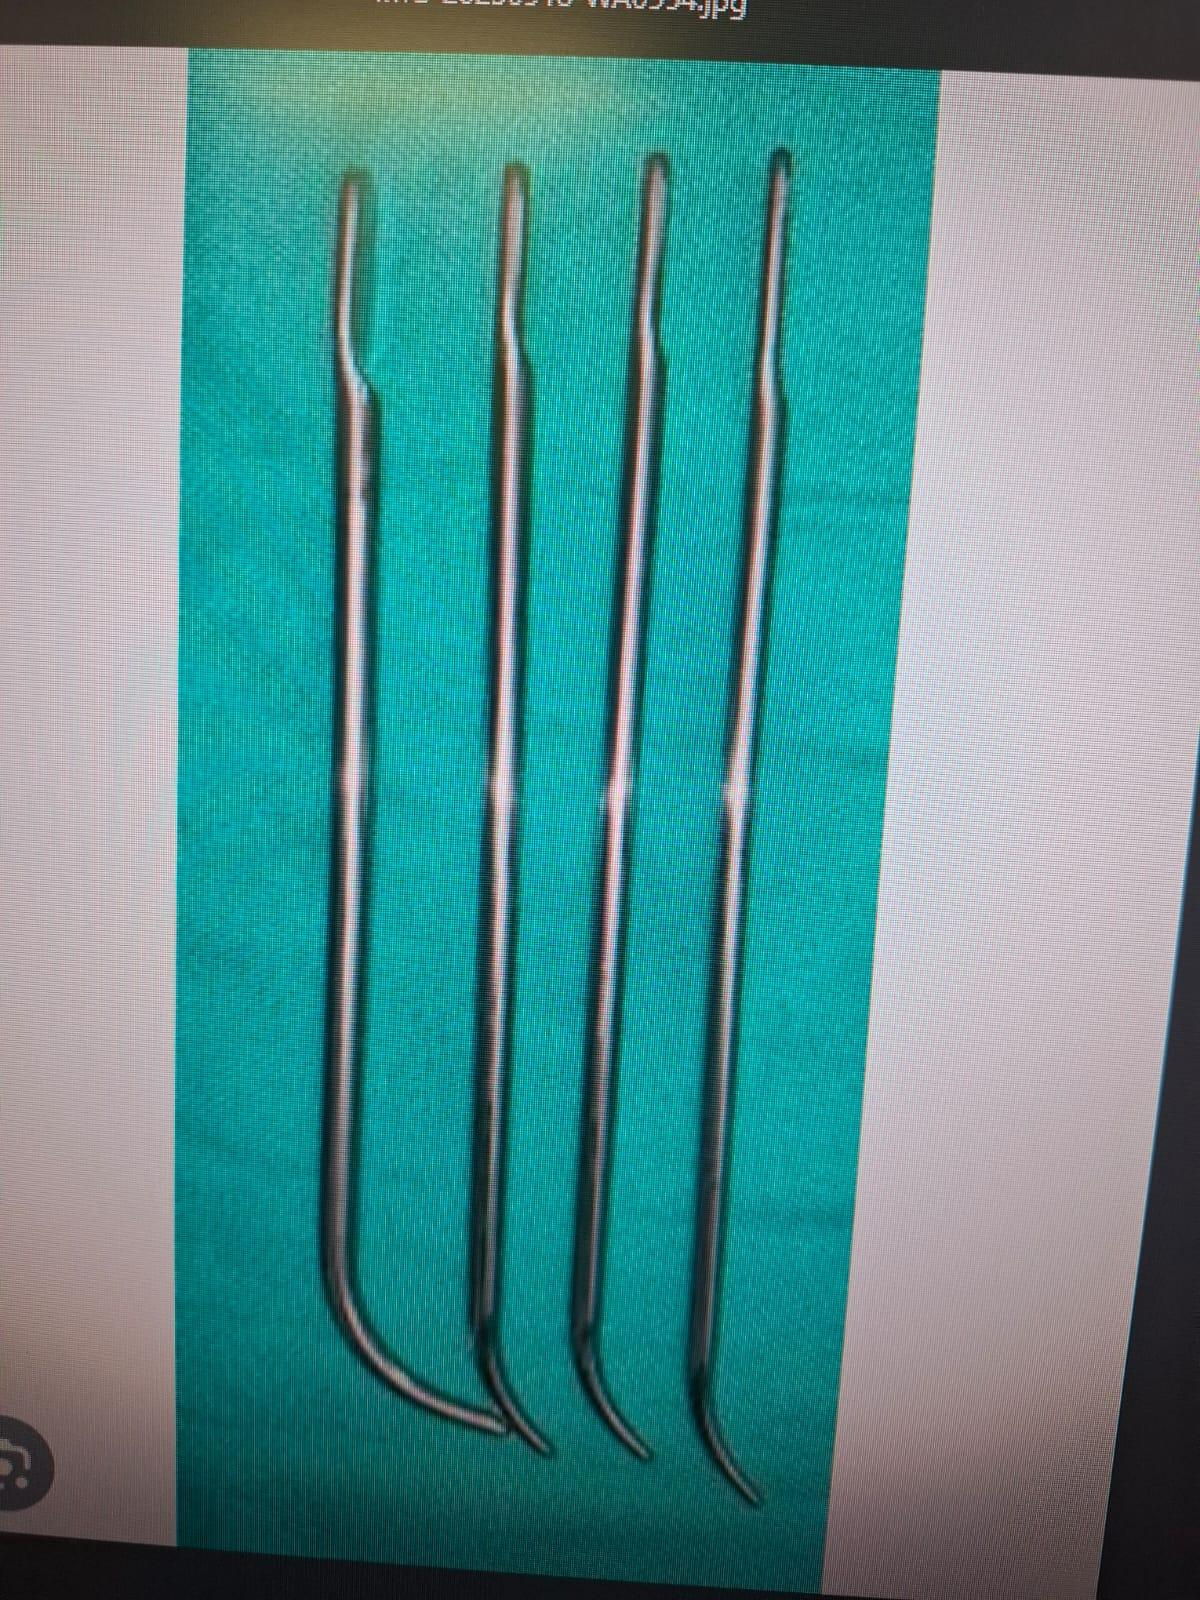Urethral Dilators: (280, 142, 503, 1450), (557, 137, 737, 1480), (430, 168, 600, 1480), (653, 147, 808, 1513)
